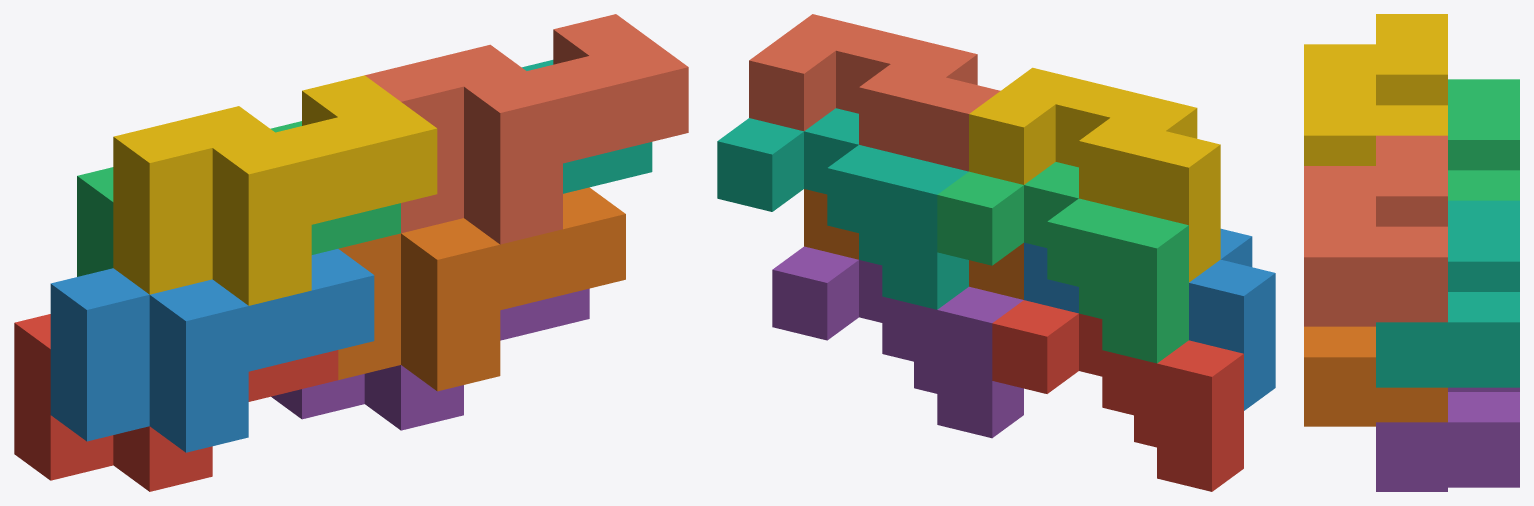
The model's file is tiling.obj.
The picture shows the model from 3 angles, left to right: view 1: azimuth 30°, elevation 25°; view 2: azimuth 150°, elevation 25°; view 3: azimuth 270°, elevation 25°; orthographic projection. The views are drawn at different scales.
Visible parts, largest first — view 1: copy_1_domain_4, copy_1_domain_8, copy_1_domain_2, copy_1_domain_6, copy_1_domain_1, copy_1_domain_5, copy_1_domain_3, copy_1_domain_7; view 2: copy_1_domain_4, copy_1_domain_3, copy_1_domain_7, copy_1_domain_8, copy_1_domain_1, copy_1_domain_5, copy_1_domain_2, copy_1_domain_6; view 3: copy_1_domain_8, copy_1_domain_7, copy_1_domain_4, copy_1_domain_5, copy_1_domain_6, copy_1_domain_3.
Part boxes in pixels (x1,y1,x2,y2): copy_1_domain_4: (113, 75, 437, 305); copy_1_domain_8: (365, 14, 688, 244); copy_1_domain_2: (50, 249, 374, 452); copy_1_domain_6: (338, 187, 625, 391); copy_1_domain_1: (14, 314, 338, 491); copy_1_domain_5: (271, 288, 589, 430); copy_1_domain_3: (77, 121, 400, 276); copy_1_domain_7: (522, 60, 652, 193); copy_1_domain_4: (969, 67, 1220, 282); copy_1_domain_3: (937, 162, 1188, 363); copy_1_domain_7: (717, 108, 968, 309); copy_1_domain_8: (749, 14, 1000, 171); copy_1_domain_1: (992, 300, 1243, 491); copy_1_domain_5: (772, 246, 1023, 438); copy_1_domain_2: (1024, 228, 1275, 410); copy_1_domain_6: (804, 189, 1023, 299); copy_1_domain_8: (1304, 135, 1447, 326); copy_1_domain_7: (1376, 200, 1519, 387); copy_1_domain_4: (1304, 14, 1447, 165); copy_1_domain_5: (1376, 387, 1519, 491); copy_1_domain_6: (1304, 326, 1447, 426); copy_1_domain_3: (1448, 79, 1519, 200).
Bounding box in the file's own units: 9 × 5 × 3.
